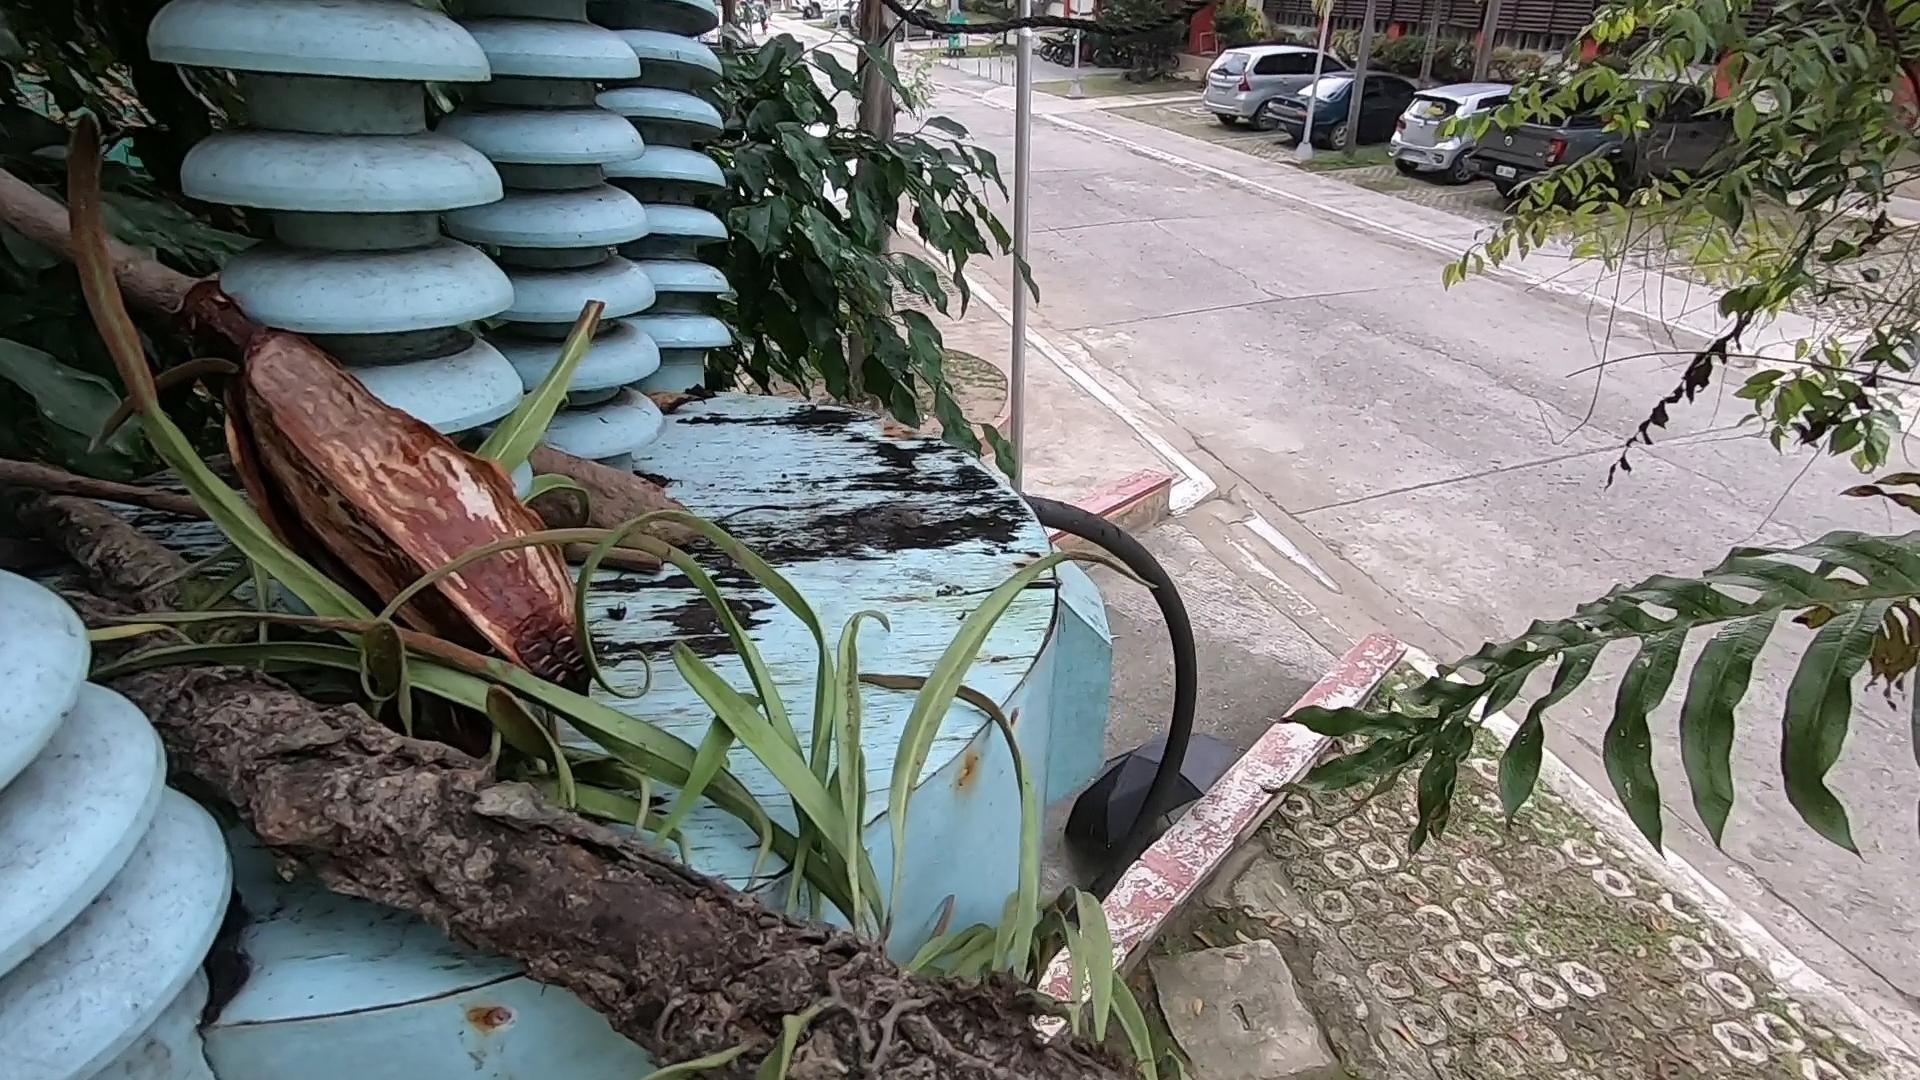leaf: (597, 357, 804, 455)
mahogany fruit: (185, 355, 613, 595), (491, 419, 758, 576)
tree branch: (124, 483, 1026, 1080), (160, 298, 535, 479), (45, 156, 225, 401)
